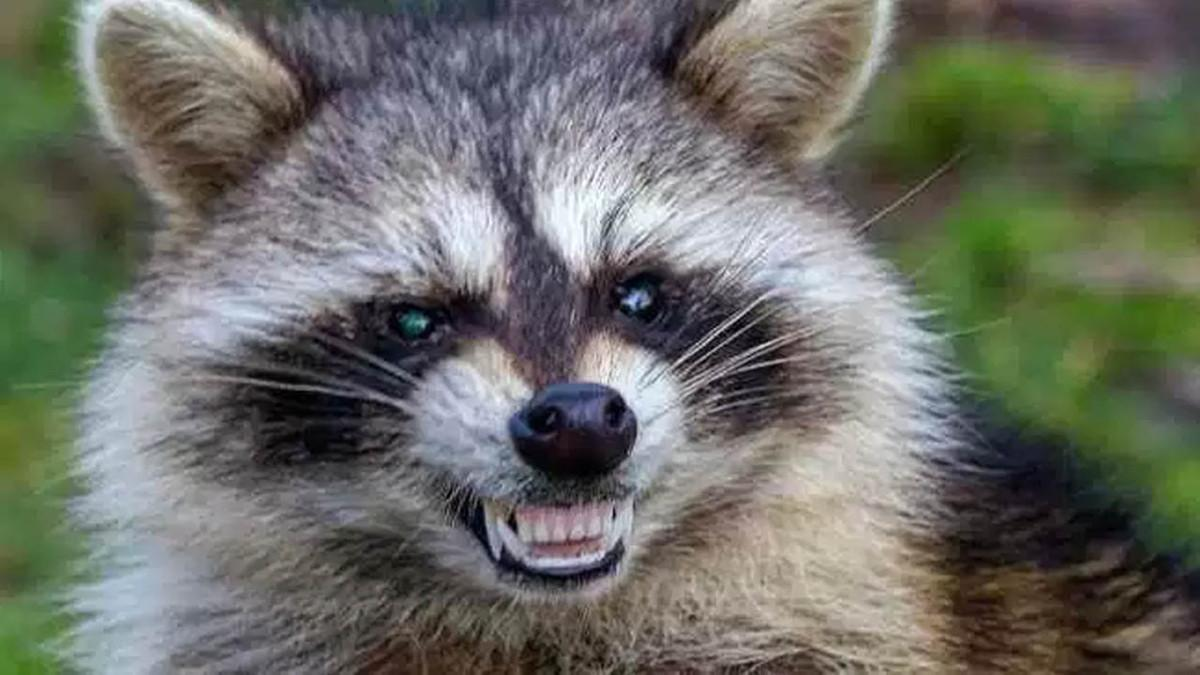raccoon: (69, 0, 1200, 675)
